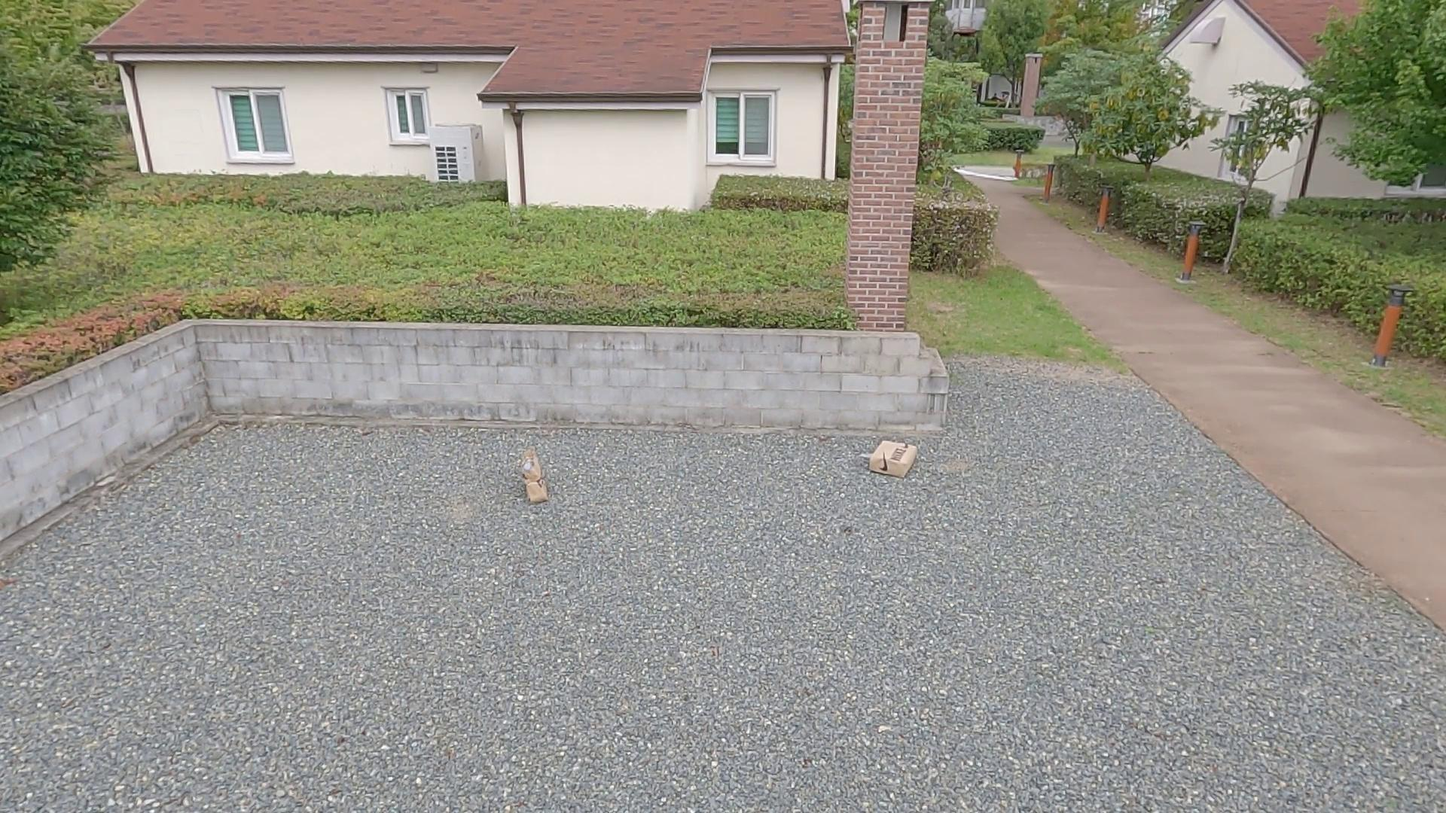trash: (867, 439, 918, 478), (519, 444, 550, 502)
